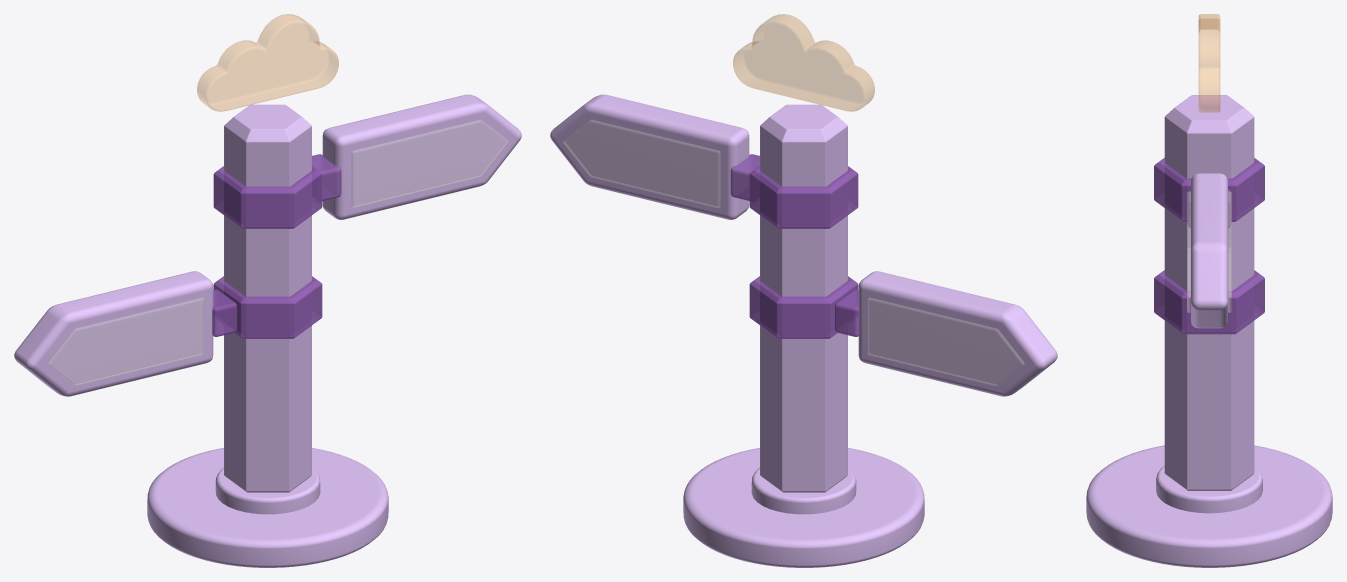
Rendered from dns.glb.
3 renders of one model, left to right at view 1: azimuth 30°, elevation 25°; view 2: azimuth 150°, elevation 25°; view 3: azimuth 270°, elevation 25°, orthographic. The views are drawn at different scales.
Visible parts, largest first — view 1: Hexagonal post, Round foot, Left arrow, Right arrow, Amber cloud, Right front inlay, Left front inlay, Right collar, Left collar, Foot collar, Right socket, Left socket; view 2: Hexagonal post, Round foot, Left arrow, Right arrow, Amber cloud, Right back inlay, Left back inlay, Right collar, Left collar, Foot collar, Right socket, Left socket; view 3: Hexagonal post, Round foot, Right arrow, Left collar, Right collar, Foot collar, Amber cloud, Right front inlay, Right back inlay.
Part boxes in pixels (x1,y1,x2,y2): Hexagonal post: [224, 104, 311, 492]; Round foot: [147, 448, 388, 567]; Left arrow: [14, 271, 213, 396]; Right arrow: [322, 94, 521, 219]; Amber cloud: [197, 14, 338, 111]; Right front inlay: [351, 120, 508, 207]; Left front inlay: [47, 298, 203, 385]; Right collar: [213, 166, 322, 228]; Left collar: [213, 276, 322, 338]; Foot collar: [215, 468, 320, 514]; Right socket: [312, 154, 341, 200]; Left socket: [212, 289, 236, 336]; Hexagonal post: [760, 104, 847, 492]; Round foot: [683, 448, 924, 567]; Left arrow: [858, 271, 1057, 396]; Right arrow: [550, 94, 749, 219]; Amber cloud: [733, 14, 874, 111]; Right back inlay: [563, 120, 720, 207]; Left back inlay: [868, 298, 1024, 385]; Right collar: [749, 166, 858, 228]; Left collar: [749, 276, 858, 338]; Foot collar: [751, 468, 856, 514]; Right socket: [730, 154, 759, 200]; Left socket: [835, 289, 859, 336]; Hexagonal post: [1164, 95, 1254, 490]; Round foot: [1086, 445, 1332, 567]; Right arrow: [1191, 173, 1227, 328]; Left collar: [1154, 270, 1264, 334]; Right collar: [1154, 158, 1264, 221]; Foot collar: [1156, 466, 1262, 513]; Amber cloud: [1198, 14, 1220, 112]; Right front inlay: [1187, 191, 1190, 312]; Right back inlay: [1228, 191, 1231, 312].
Size of the model in its own units: 3.2 by 3.07 by 1.35.
